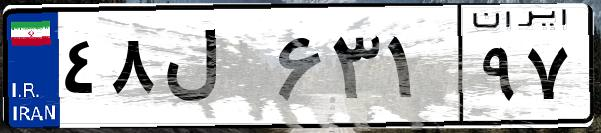1: (385, 28, 445, 110)
3: (330, 28, 385, 110)
4: (57, 26, 110, 100)
6: (270, 28, 330, 110)
7: (525, 38, 570, 115)
8: (110, 28, 158, 98)
9: (475, 38, 525, 113)
ل: (158, 20, 270, 120)
